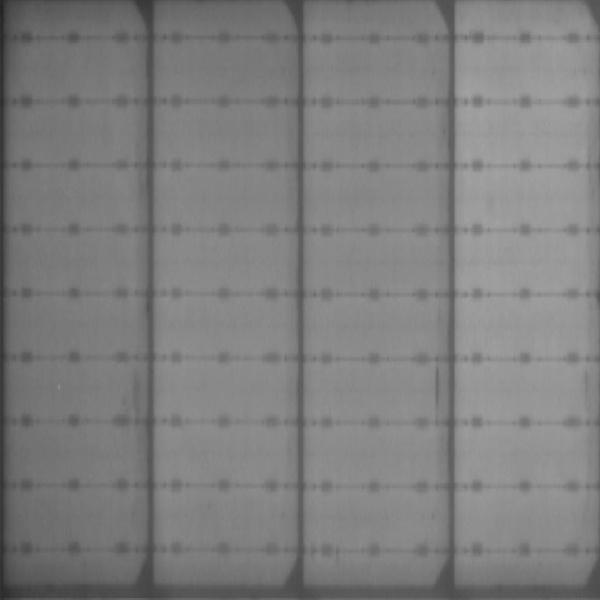scratch: (430, 357, 443, 428)
